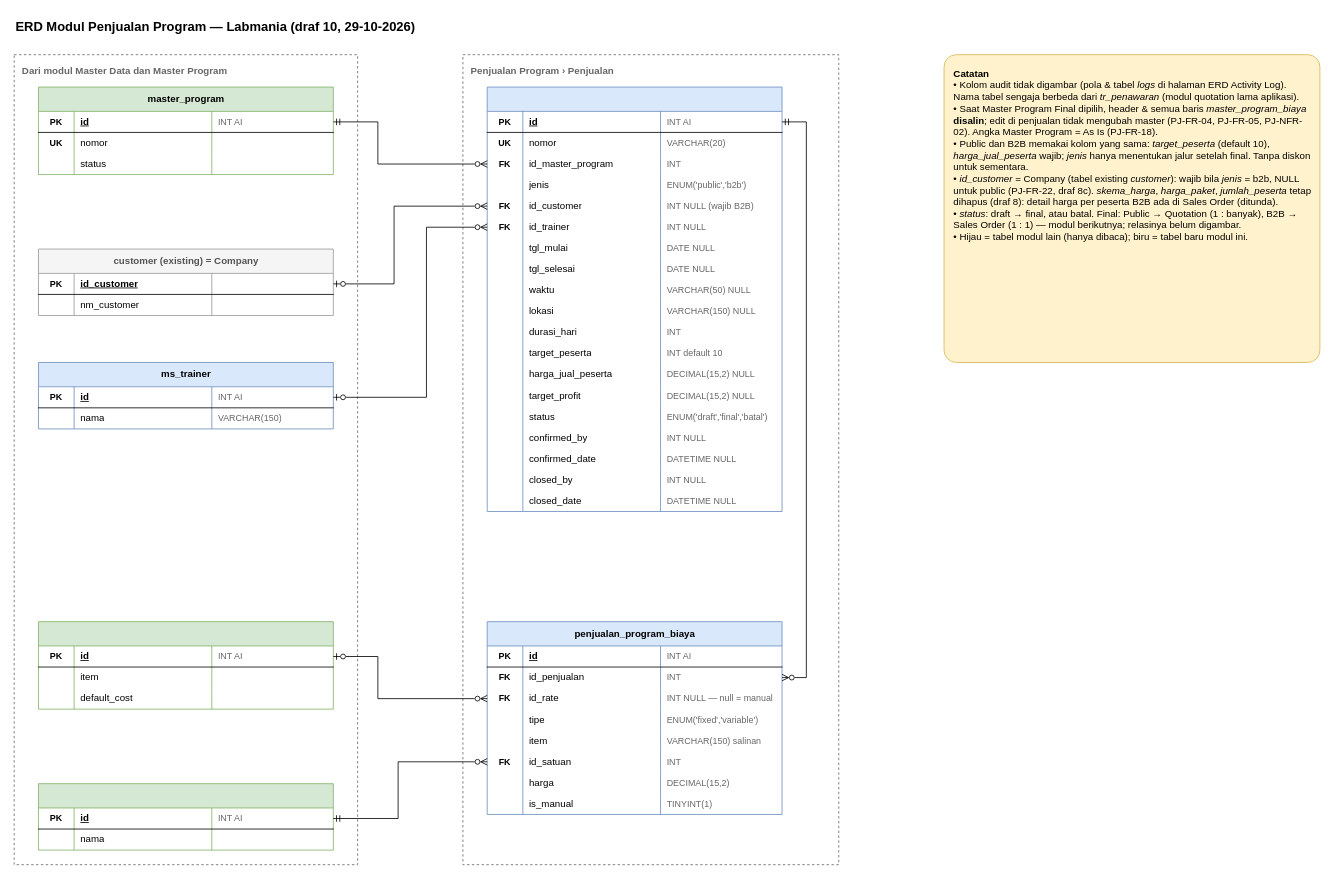
Image size: 1334x879. Some labels were removed from this diagram. Here are the shapes that lost their labels. From the top down, the box of each, then its label:
(486, 86, 782, 512): penjualan_program
(38, 621, 333, 709): ms_rate
(38, 783, 333, 850): ms_satuan
